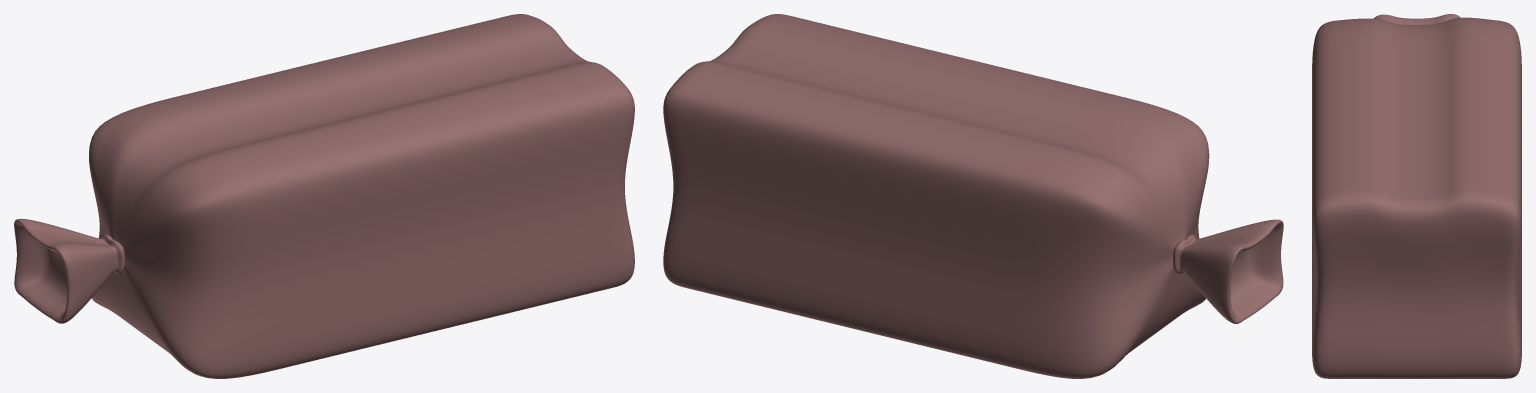
The model's file is BreadInBAg.fbx.
3 renders of one model, left to right at view 1: azimuth 30°, elevation 25°; view 2: azimuth 150°, elevation 25°; view 3: azimuth 270°, elevation 25°, orthographic. The views are drawn at different scales.
Visible parts, largest first — view 1: BreadInBag; view 2: BreadInBag; view 3: BreadInBag.
Part boxes in pixels (x1,y1,x2,y2): BreadInBag: [14, 14, 634, 378]; BreadInBag: [663, 14, 1283, 378]; BreadInBag: [1312, 14, 1521, 378].
Size of the model in its own units: 153 by 54.93 by 56.16.
